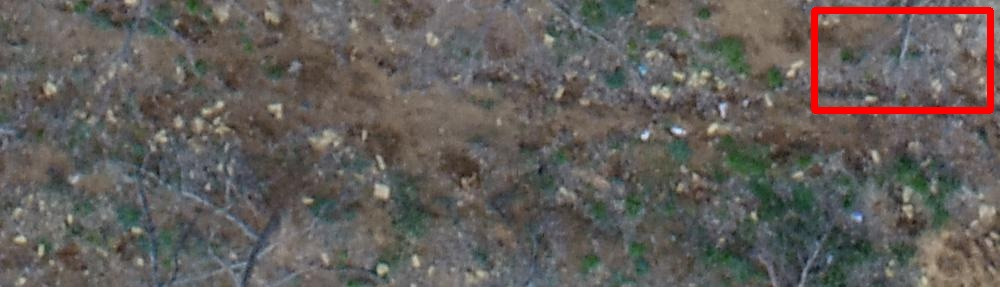apple: (814, 10, 990, 110)
